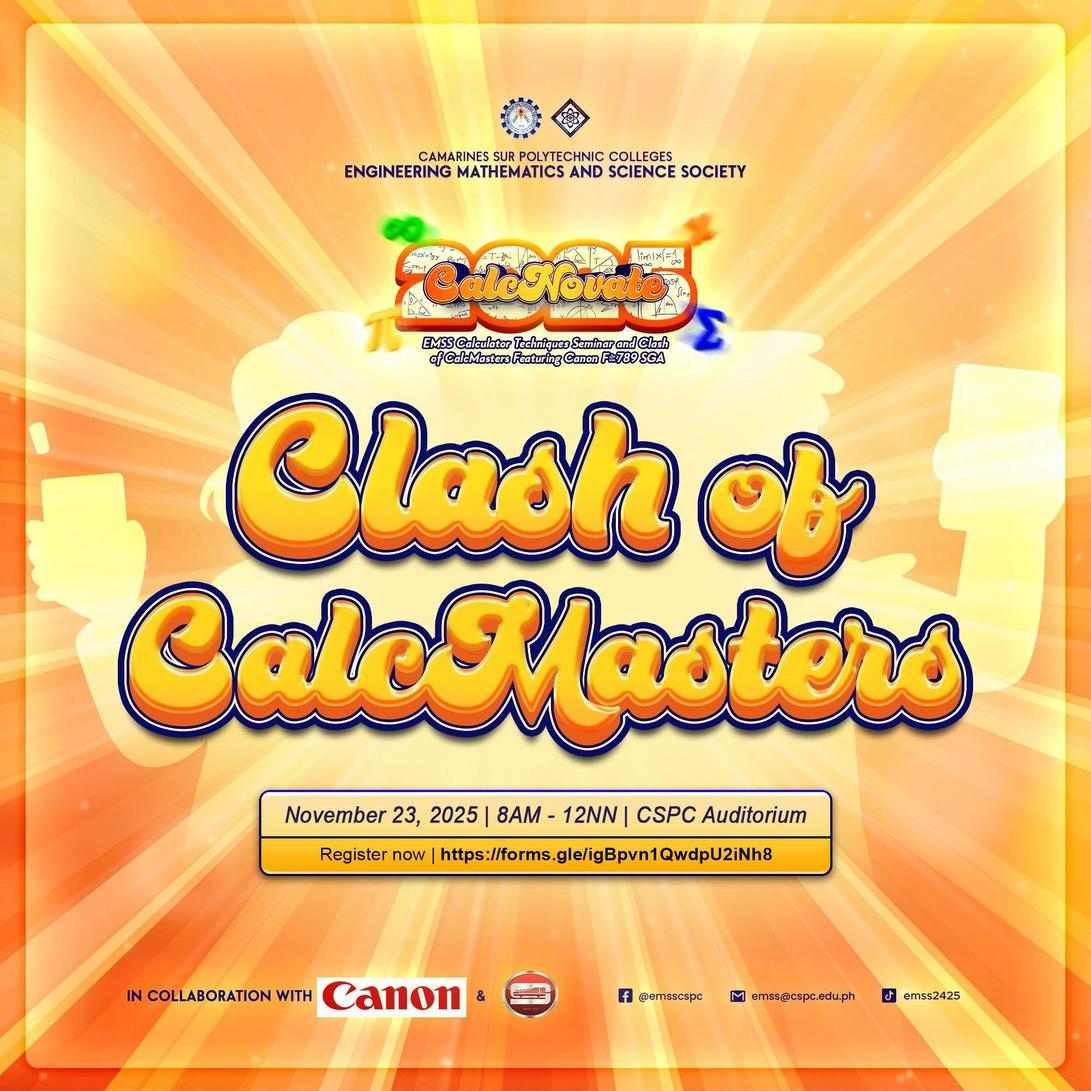embellishment: (375, 225, 713, 360), (312, 968, 469, 1023), (502, 967, 569, 1021), (874, 982, 903, 1011), (611, 983, 638, 1009), (727, 983, 750, 1012)
logo: (492, 93, 550, 140), (547, 93, 592, 139)
text: (106, 385, 981, 772), (335, 138, 758, 191), (314, 841, 783, 866), (274, 805, 818, 826), (417, 335, 672, 368), (116, 983, 320, 1012), (749, 986, 862, 1008), (637, 985, 712, 1013), (900, 986, 971, 1006), (473, 989, 488, 1008)
underlay: (259, 788, 836, 876)
